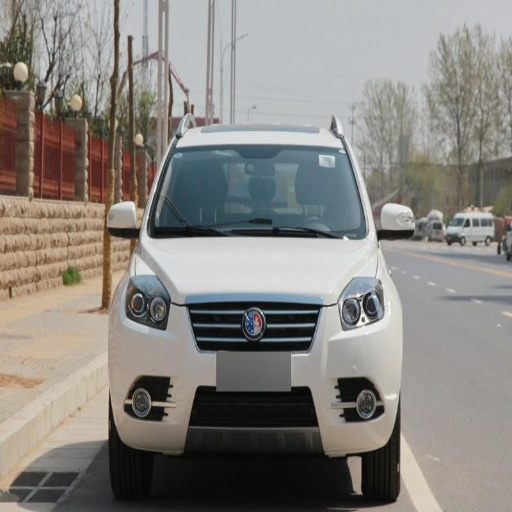front_bumper: (111, 299, 405, 457)
front_right_light: (128, 272, 169, 328)
hood: (141, 236, 376, 304)
left_mirror: (378, 204, 416, 239)
